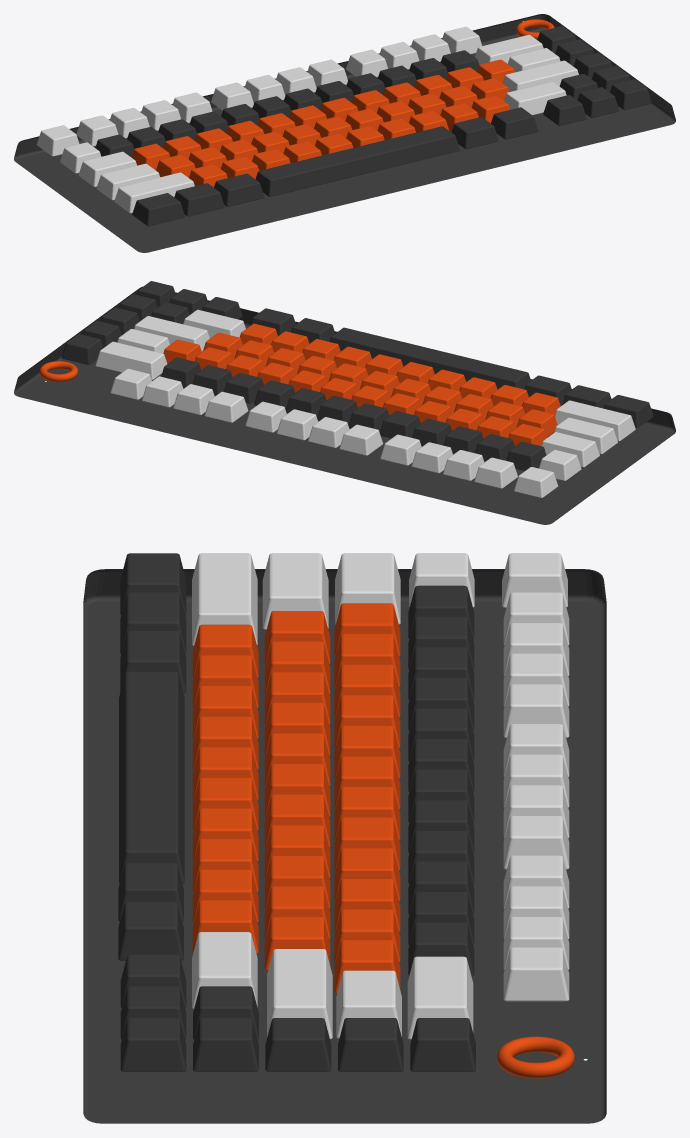
File: keyboard.glb
3 renders of one model, top to bottom at view 1: azimuth 30°, elevation 25°; view 2: azimuth 150°, elevation 25°; view 3: azimuth 270°, elevation 25°, orthographic. The views are drawn at different scales.
Visible parts, largest first — view 1: Plane, Cube.018, Cube.005, Cube.014, Cube.004, Cube.010, Cube.016, Cube.062, Cube.063, Cube.006, Cube.020, Cube.019 (+70 smaller); view 2: Plane, Cube.018, Cube.016, Cube.005, Cube.014, Cube.006, Cube.007, Cube.010, Cube.017, Cube.072, Cube.009, Cube.076 (+70 smaller); view 3: Plane, Cube.018, Cube.005, Cube.014, Cube.016, Cube.006, Cube.010, Cube.079, Cube.020, Cube.011, Cube.066, Cube.065 (+70 smaller).
Boxes of the visible parts, x1,y1,x2,y2 form: Plane: (14,14,675,252); Cube.018: (255,126,459,196); Cube.005: (114,172,194,213); Cube.014: (503,60,578,91); Cube.004: (132,193,184,226); Cube.010: (504,81,566,115); Cube.016: (475,34,543,64); Cube.062: (174,183,224,216); Cube.063: (214,173,264,206); Cube.006: (96,163,159,200); Cube.020: (491,107,538,139); Cube.019: (451,117,498,149); Plane: (14,286,675,524); Cube.018: (329,327,530,389); Cube.016: (95,341,167,379); Cube.005: (554,400,635,441); Cube.014: (134,316,209,351); Cube.006: (554,417,617,454); Cube.007: (541,432,599,467); Cube.010: (183,309,245,338); Cube.017: (514,467,558,497); Cube.072: (339,424,383,455); Cube.009: (474,457,517,488); Cube.076: (204,391,248,422); Plane: (83,569,606,1123); Cube.018: (119,671,184,883); Cube.005: (192,553,257,645); Cube.014: (267,949,332,1039); Cube.016: (407,956,473,1039); Cube.006: (262,553,328,629); Cube.010: (192,932,257,1008); Cube.079: (503,947,569,1001); Cube.020: (118,901,183,960); Cube.011: (120,1018,186,1071); Cube.066: (265,1018,331,1071); Cube.065: (193,1018,258,1071).
Size of the model in its own units: 3.93 by 0.2287 by 1.65.
